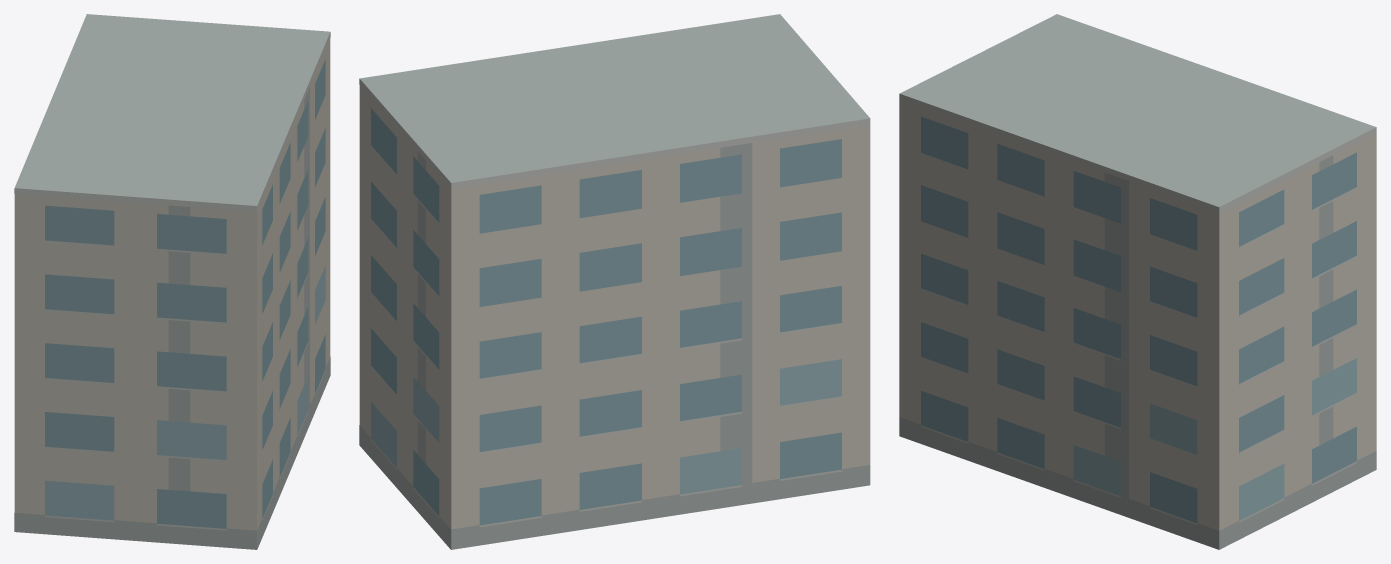
File: survey-upis-32973438.glb
3 views of the same model, side by side, from view 1: azimuth 30°, elevation 25°; view 2: azimuth 150°, elevation 25°; view 3: azimuth 270°, elevation 25° (orthographic). The views are drawn at different scales.
Visible parts, largest first — view 1: survey-upis-32973438.tmp; view 2: survey-upis-32973438.tmp; view 3: survey-upis-32973438.tmp.
Part boxes in pixels (bbox=[...]): survey-upis-32973438.tmp: bbox=[14, 14, 330, 549]; survey-upis-32973438.tmp: bbox=[359, 14, 870, 549]; survey-upis-32973438.tmp: bbox=[899, 14, 1376, 549].
Bounding box in the file's own units: 17.3 × 14.3 × 18.05.
